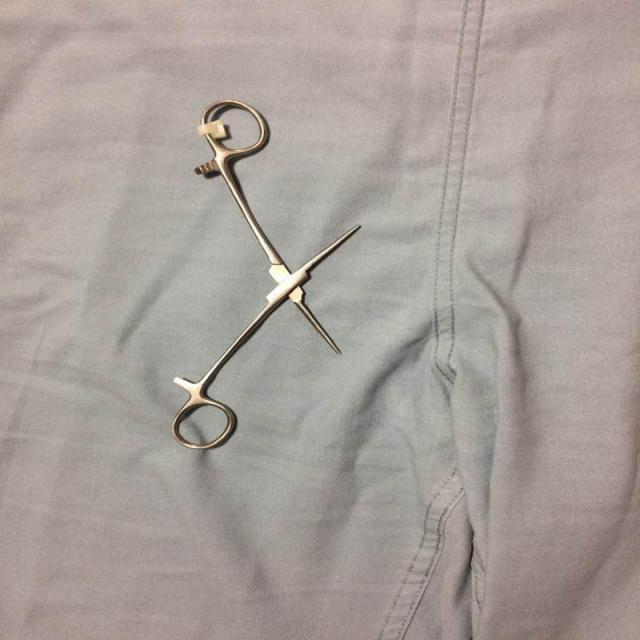Hemostat: (167, 97, 365, 455)
